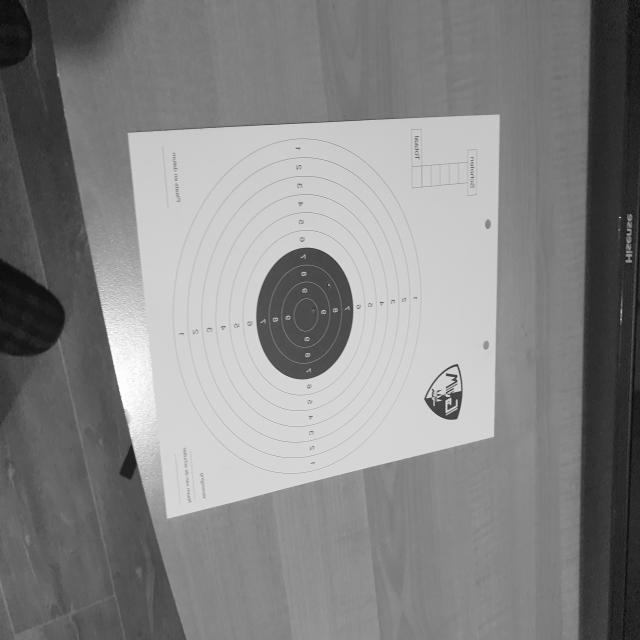10: (310, 307, 317, 314)
8: (326, 281, 332, 290)
Target: (172, 138, 422, 476)
black_contour: (256, 247, 353, 380)
